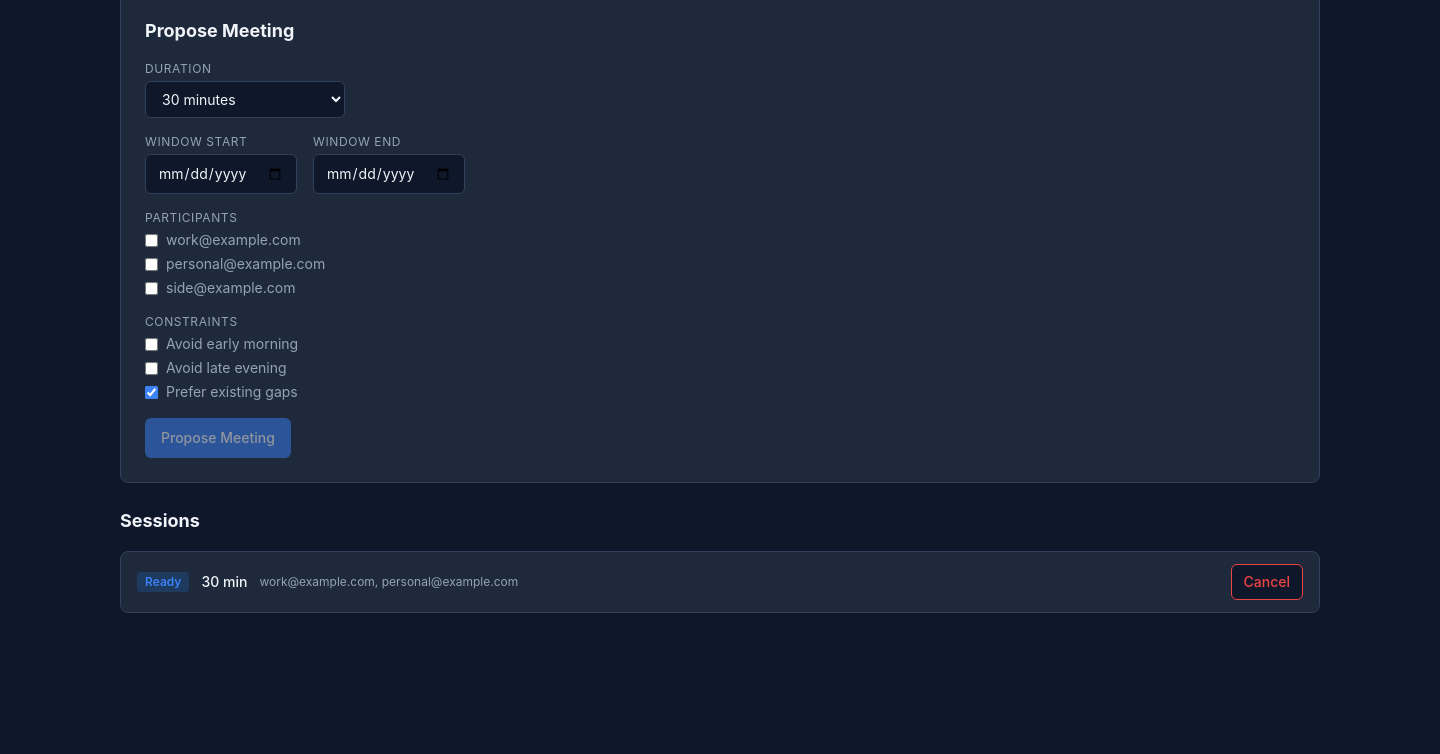
Test: Scheduling Page › candidate list › renders candidates with scores and explanations
Click the ready session to view details
Click the element with test id "session-row-sess_002" at (720, 582), box [120,551,1320,613]
(page scrolled)
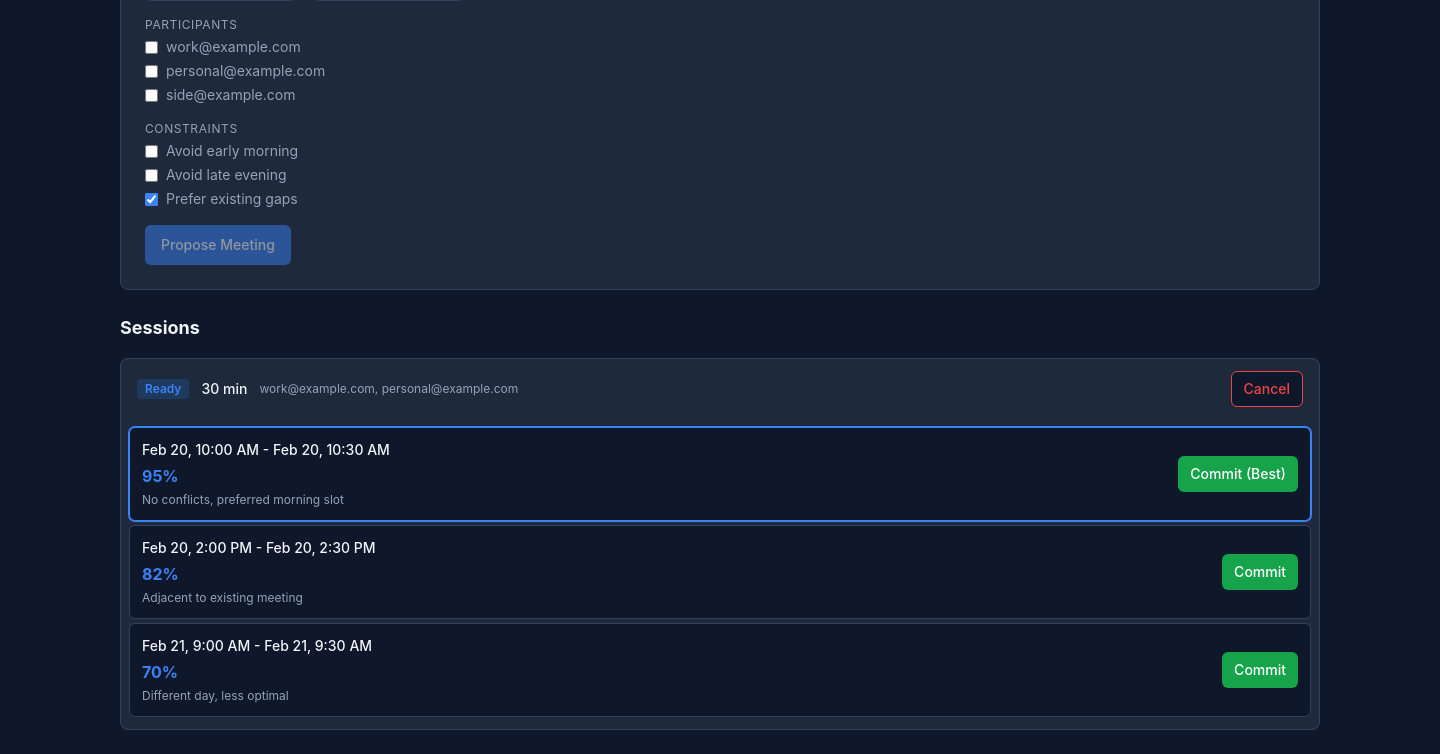
Check: the element with test id "candidate-list" is shown, box [120,419,1320,730]
Check: the text "95%" is shown, box [142,466,179,486]
Check: the text "82%" is shown, box [142,564,179,584]
